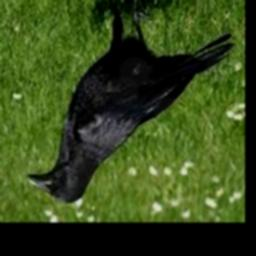Crow: (26, 0, 234, 203)
